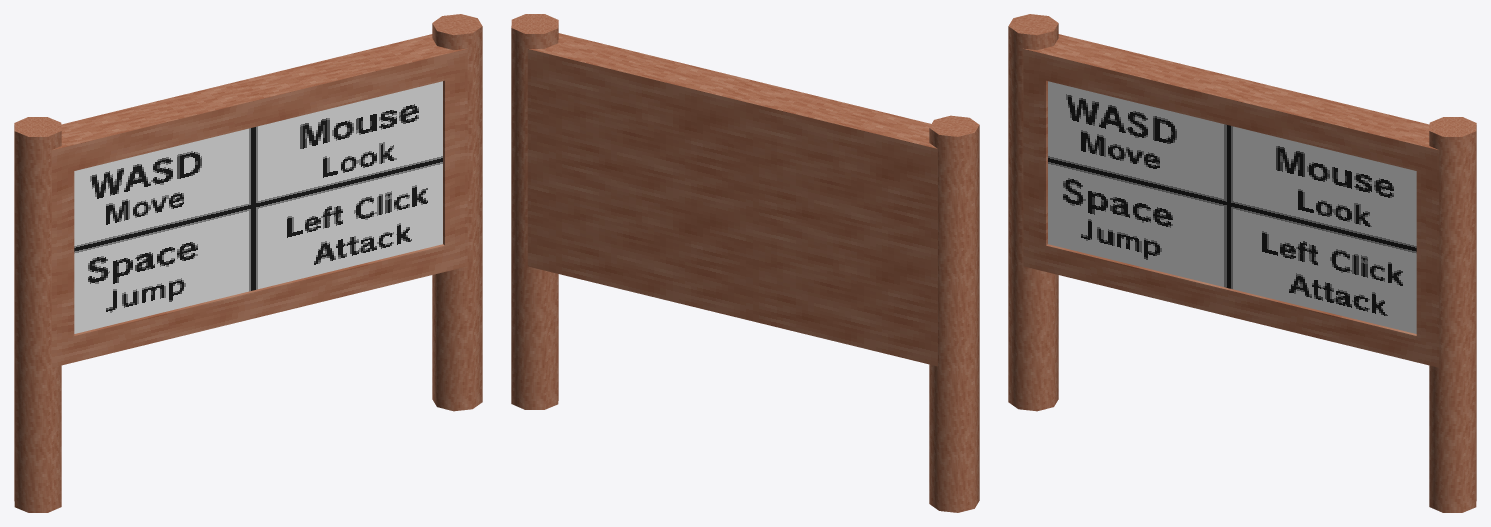
File: sign.glb
3 renders of one model, left to right at view 1: azimuth 30°, elevation 25°; view 2: azimuth 150°, elevation 25°; view 3: azimuth 330°, elevation 25°, orthographic.
Parts seen in each view (by area): view 1: Cube; view 2: Cube; view 3: Cube.
Part boxes in pixels (x1,y1,x2,y2): Cube: (14, 14, 482, 512); Cube: (511, 14, 979, 512); Cube: (1008, 14, 1476, 512).
Size of the model in its own units: 4.45 by 3.46 by 0.4206.
2 materials, 2 textured.
